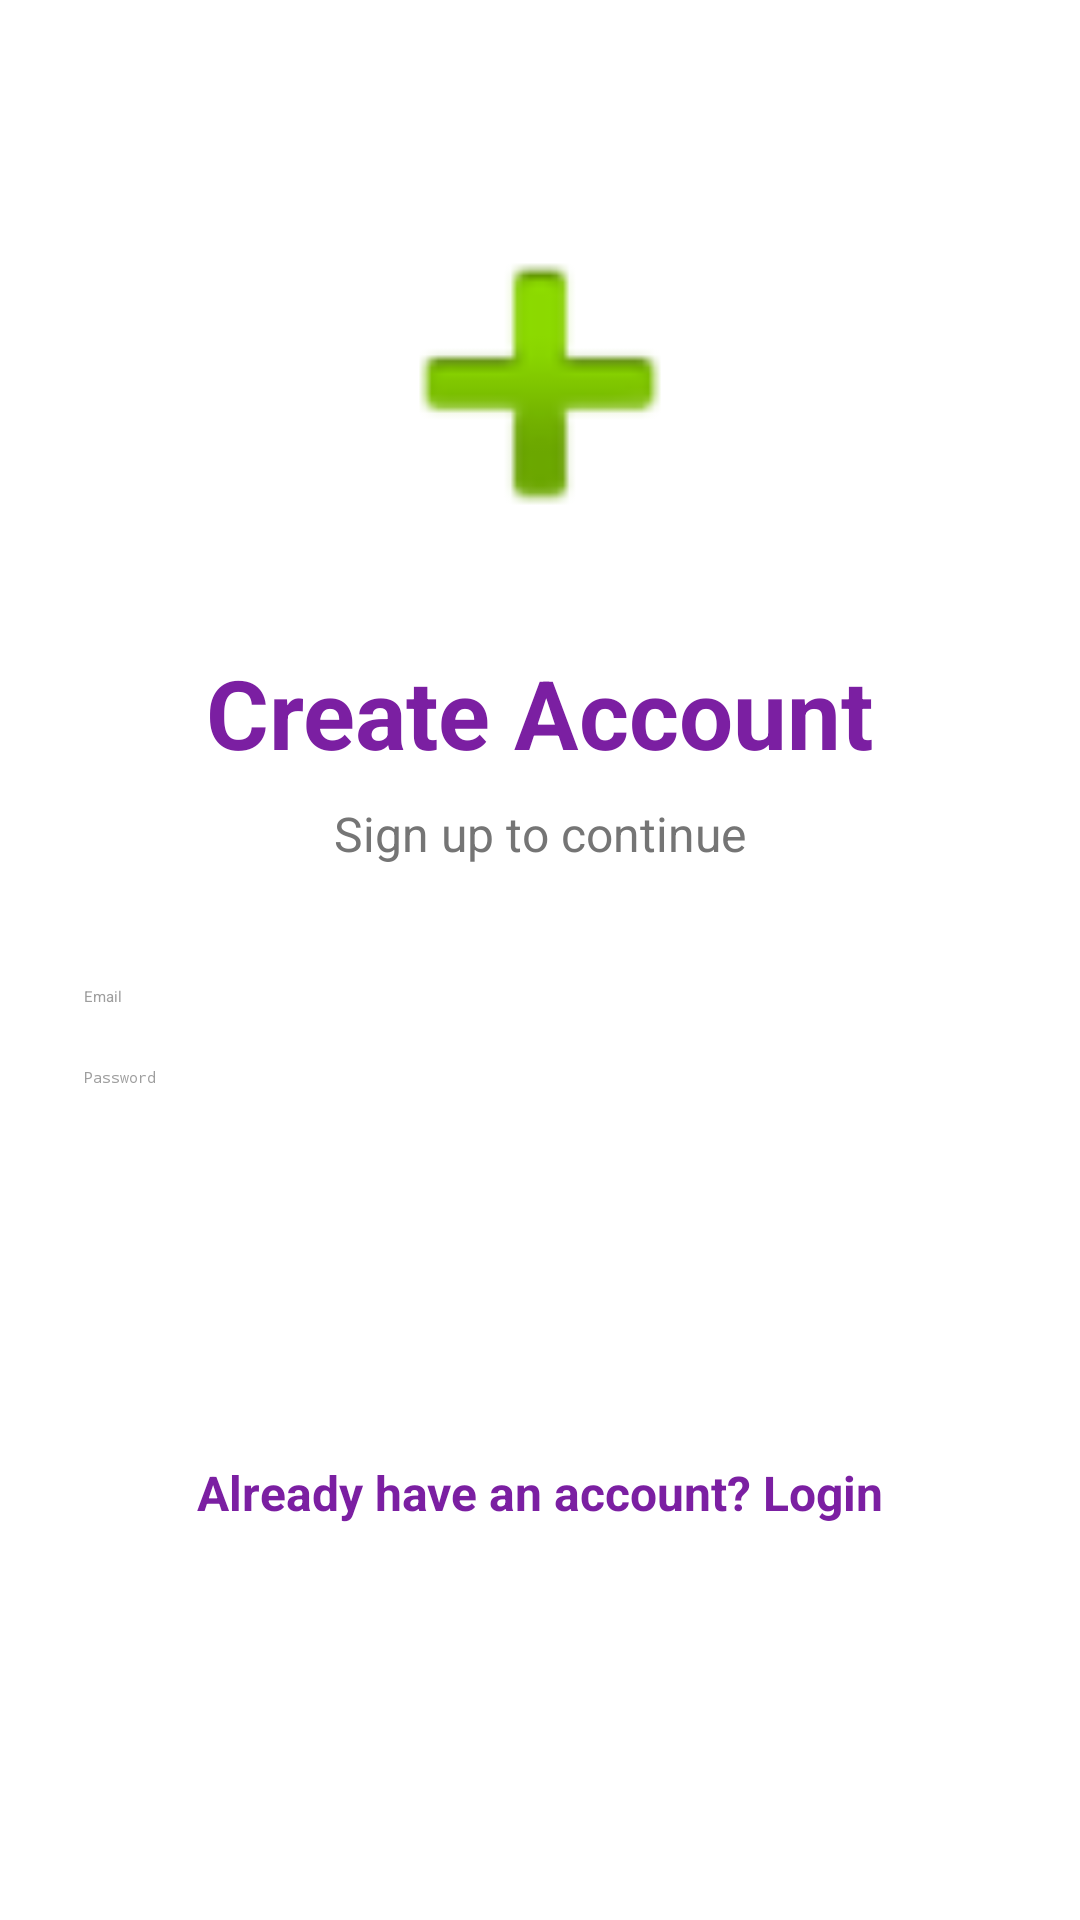

Icons on this 1080x1920 Android screen, each with the point to tap as [x,y]:
add: [540,383]
